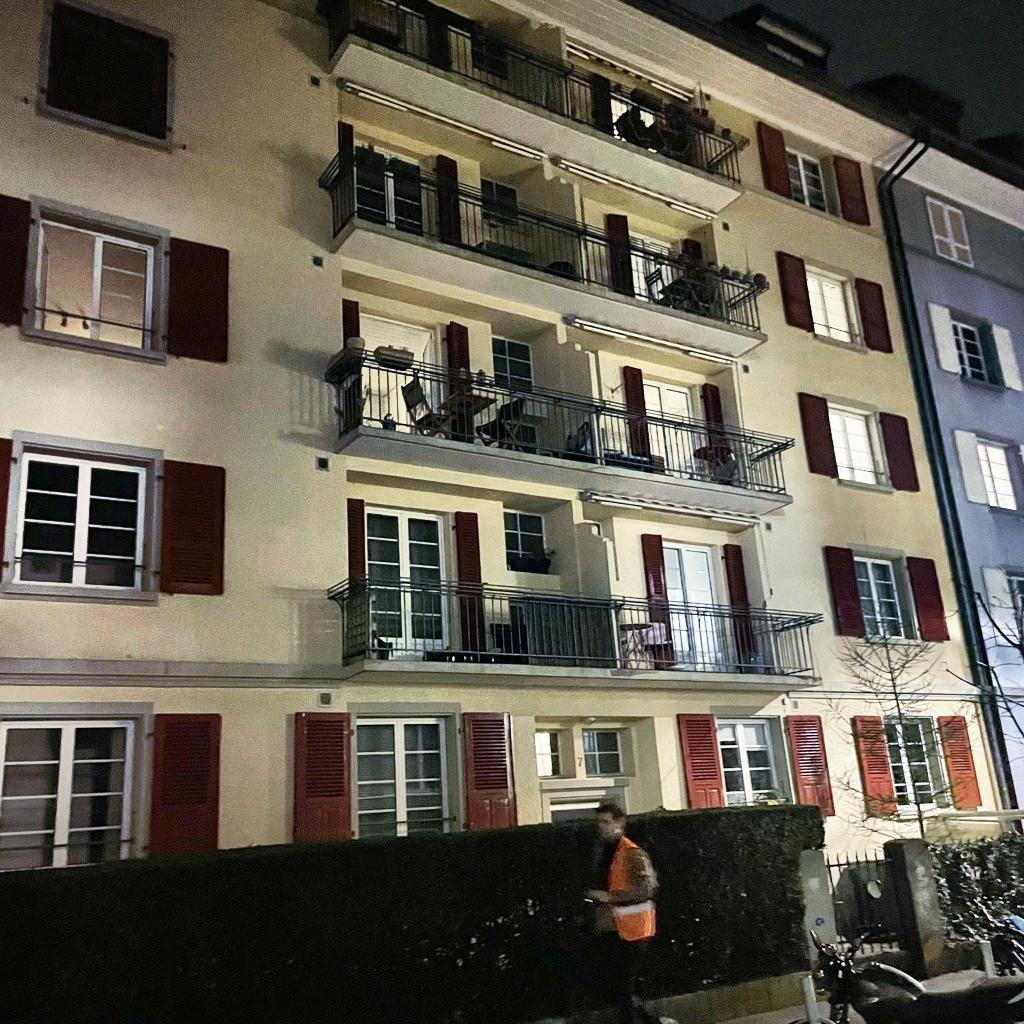balcony-fence: (318, 144, 770, 332), (325, 0, 751, 186), (324, 346, 796, 495), (326, 574, 824, 676)
fence: (537, 837, 1024, 1024)
vegetation: (0, 803, 825, 1024), (819, 577, 1024, 944)
window: (0, 719, 137, 873), (11, 451, 147, 591), (45, 0, 172, 142), (34, 219, 155, 350), (364, 505, 450, 661), (356, 717, 450, 839), (662, 541, 727, 672), (355, 141, 430, 240), (643, 378, 702, 480), (716, 718, 783, 807), (882, 719, 938, 811), (350, 0, 428, 61), (854, 556, 906, 639), (828, 406, 880, 485), (629, 230, 674, 310), (925, 195, 974, 268), (806, 270, 854, 343), (976, 437, 1020, 511), (504, 508, 550, 573), (786, 146, 829, 213), (492, 334, 535, 395), (951, 319, 990, 382), (612, 97, 656, 151), (481, 176, 521, 229), (583, 730, 623, 778), (471, 33, 510, 81), (535, 730, 564, 776), (1006, 575, 1024, 646), (550, 801, 606, 822)
